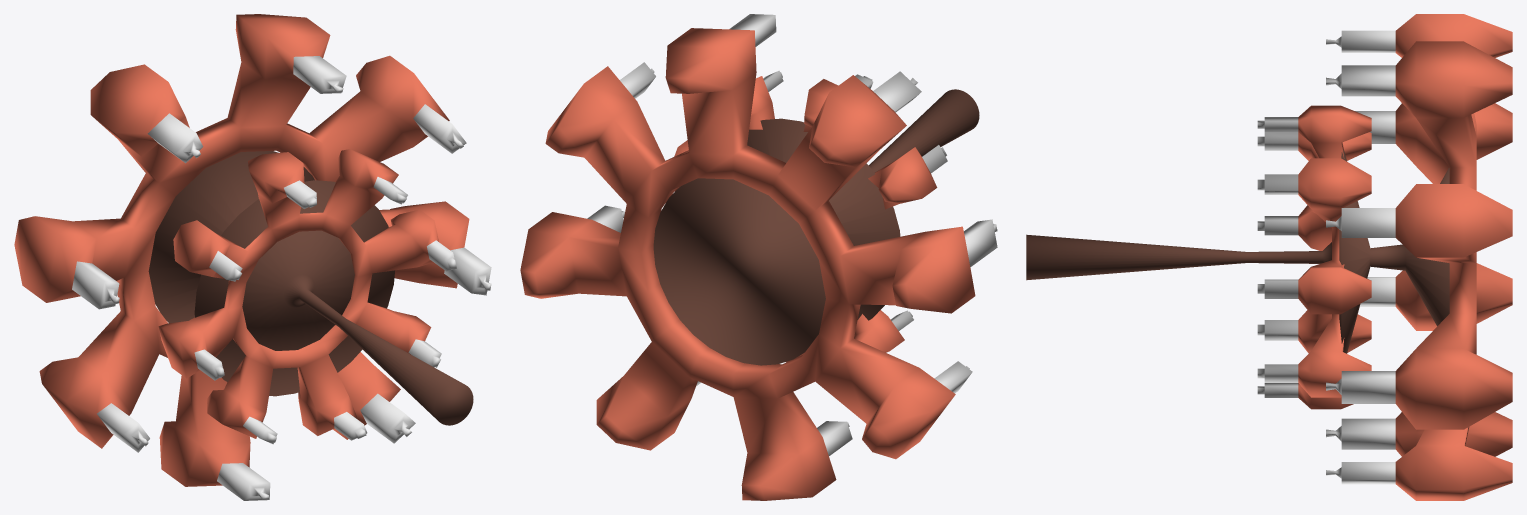
The model's file is chandelier.fbx.
3 renders of one model, left to right at view 1: azimuth 30°, elevation 25°; view 2: azimuth 150°, elevation 25°; view 3: azimuth 270°, elevation 25°, orthographic.
Visible parts, largest first — view 1: Circle.001; view 2: Circle.001; view 3: Circle.001.
Boxes of the visible parts, <box> form: Circle.001: <box>14,14,491,500</box>; Circle.001: <box>520,14,997,500</box>; Circle.001: <box>1026,14,1512,500</box>.
Bounding box in the file's own units: 366 × 366 × 366.
